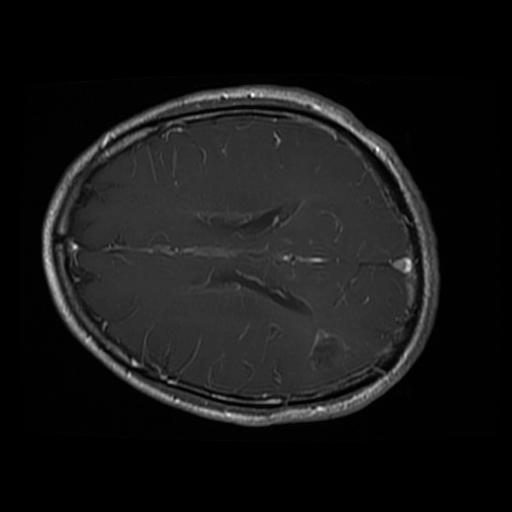glioma: (303, 329, 350, 373)
